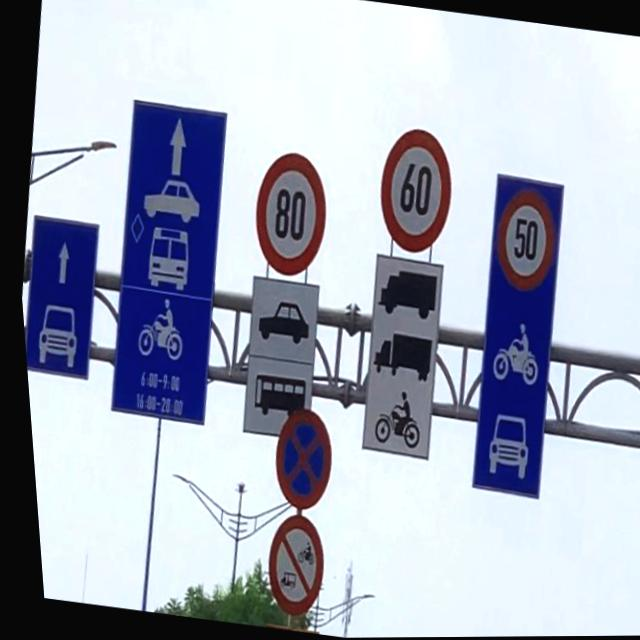Cam dung xe va do xe: (256, 403, 337, 519)
Toc do toi da cho phep: (363, 112, 468, 260), (235, 138, 343, 281), (479, 176, 562, 297)
